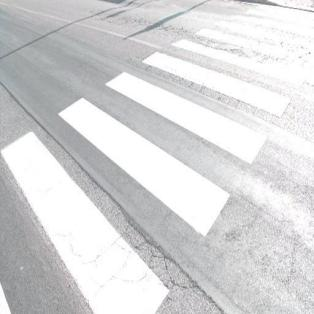Paso de Cebra: (104, 47, 296, 166), (242, 3, 312, 28)
